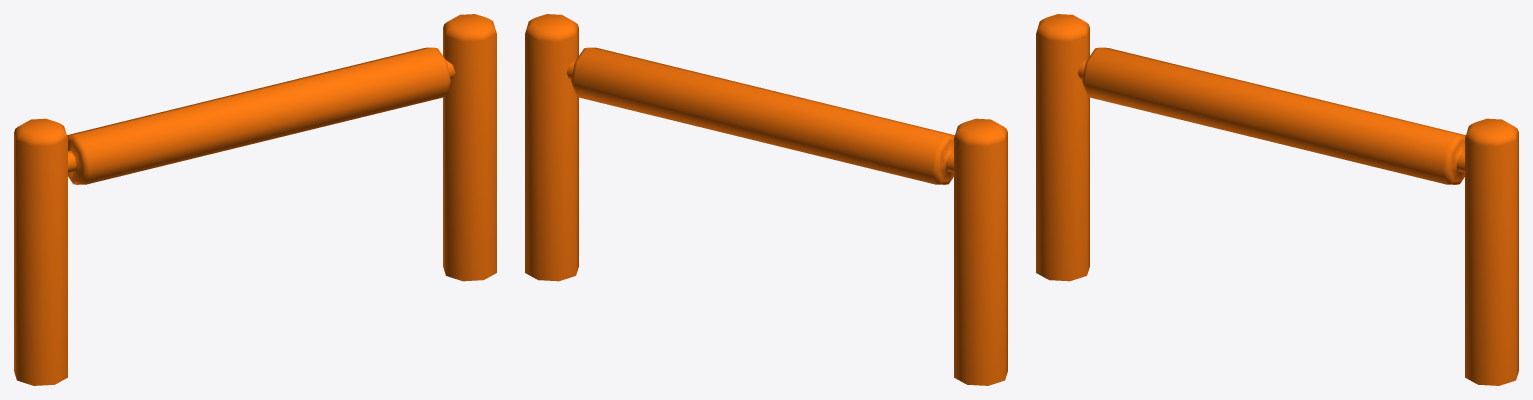
Rendered from Fence_04.fbx.
3 renders of one model, left to right at view 1: azimuth 30°, elevation 25°; view 2: azimuth 150°, elevation 25°; view 3: azimuth 330°, elevation 25°, orthographic.
Visible parts, largest first — view 1: Obstacle_Fence_04; view 2: Obstacle_Fence_04; view 3: Obstacle_Fence_04.
Boxes of the visible parts, <box> form: Obstacle_Fence_04: <box>14,14,496,385</box>; Obstacle_Fence_04: <box>525,14,1007,385</box>; Obstacle_Fence_04: <box>1036,14,1518,385</box>.
Size of the model in its own units: 208 by 103 by 21.
1 material, 1 textured.
